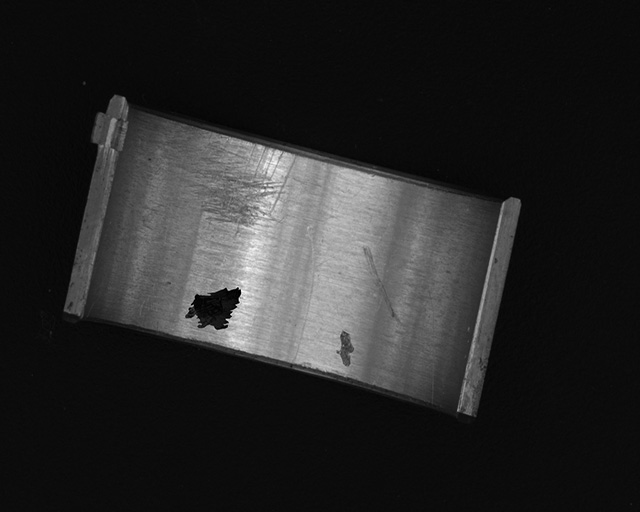blot: (184, 287, 242, 332)
bruise: (336, 330, 356, 368)
nick: (292, 225, 317, 361), (362, 244, 401, 327)
scratch: (164, 122, 299, 240)
